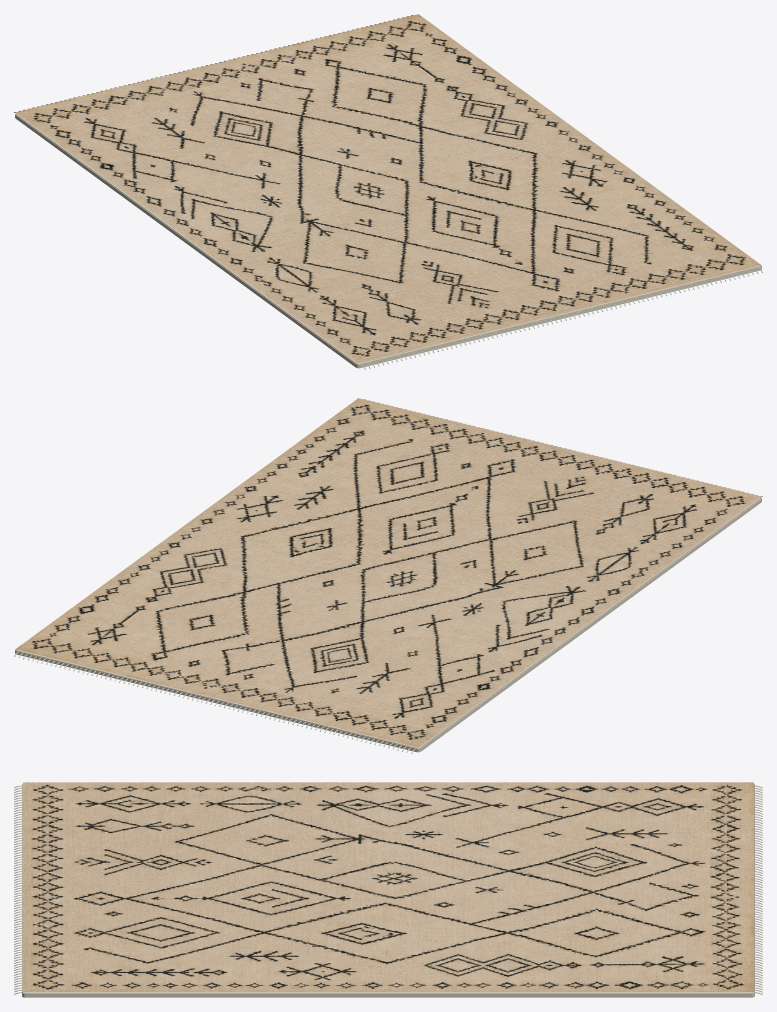
The model's file is designed-rug-amazigh.glb.
3 renders of one model, top to bottom at view 1: azimuth 30°, elevation 25°; view 2: azimuth 150°, elevation 25°; view 3: azimuth 270°, elevation 25°, orthographic. The views are drawn at different scales.
Parts seen in each view (by area): view 1: catalog_surface_UVMap, catalog_surface_RealismUV; view 2: catalog_surface_UVMap, catalog_surface_RealismUV; view 3: catalog_surface_UVMap, catalog_surface_RealismUV.
Boxes of the visible parts, left/top/right/bottom form: catalog_surface_UVMap: left=16, top=14, right=760, bottom=363; catalog_surface_RealismUV: left=14, top=15, right=762, bottom=369; catalog_surface_UVMap: left=16, top=398, right=760, bottom=747; catalog_surface_RealismUV: left=14, top=399, right=762, bottom=753; catalog_surface_UVMap: left=23, top=782, right=753, bottom=991; catalog_surface_RealismUV: left=14, top=784, right=762, bottom=997.
Size of the model in its own units: 1.6 by 0.018 by 2.4.
Materials: 3 (1 with a texture image).
